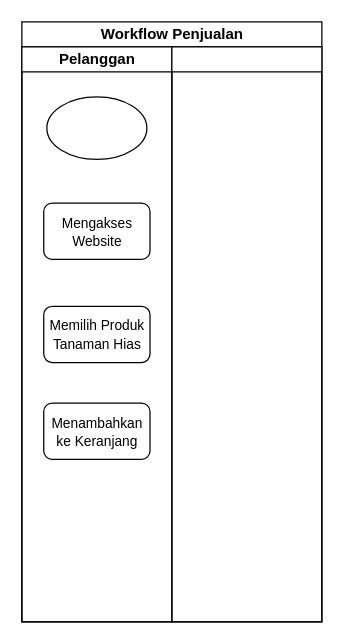
The diagram is 344 pixels wide and 644 high, and some of its shapes have lost their labels. The centre of each missing label's shape, as x and y in pixels:
"Penjual" goes at (246,334).
"START" goes at (96,127).
